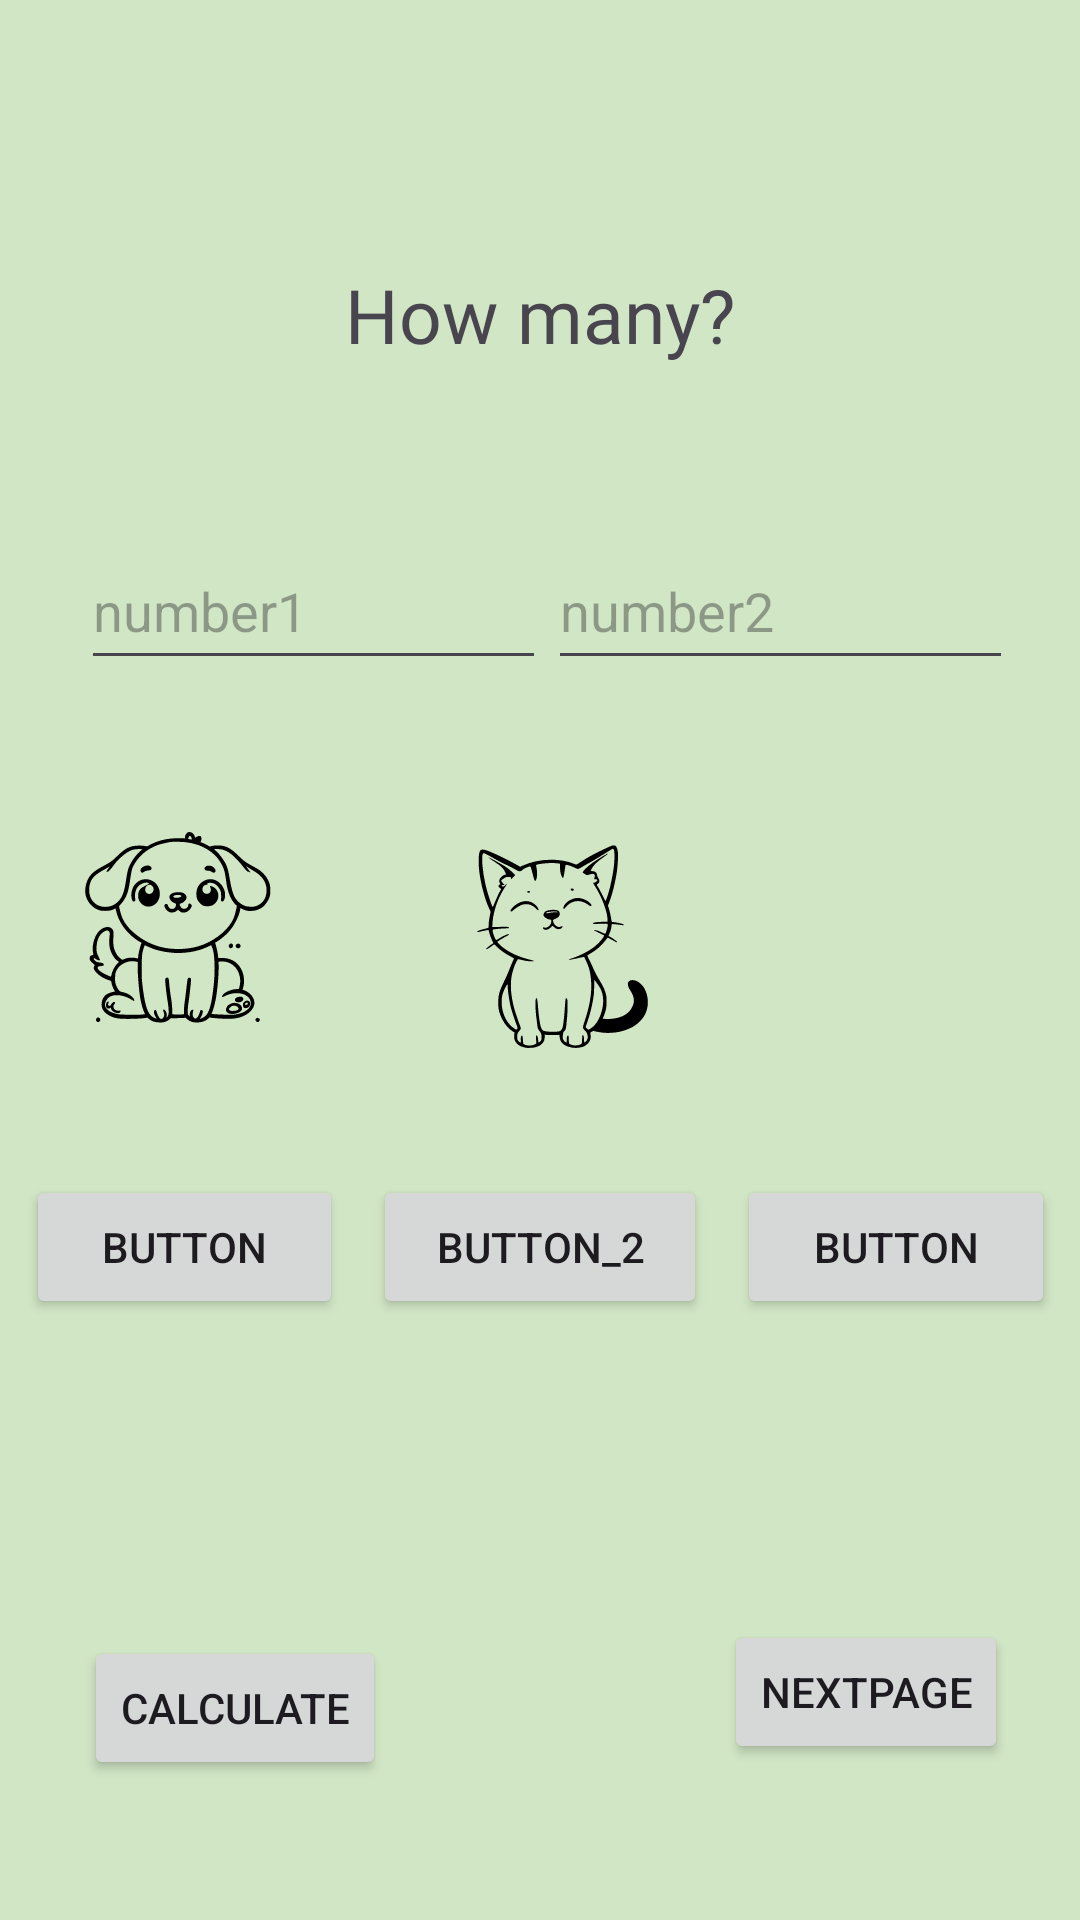

Icon bounding boxes for this 1080x1920 phone screenshot, format bbox(x1, y1, x2, y2):
cat: bbox(477, 845, 648, 1048)
dog: bbox(85, 832, 271, 1023)
